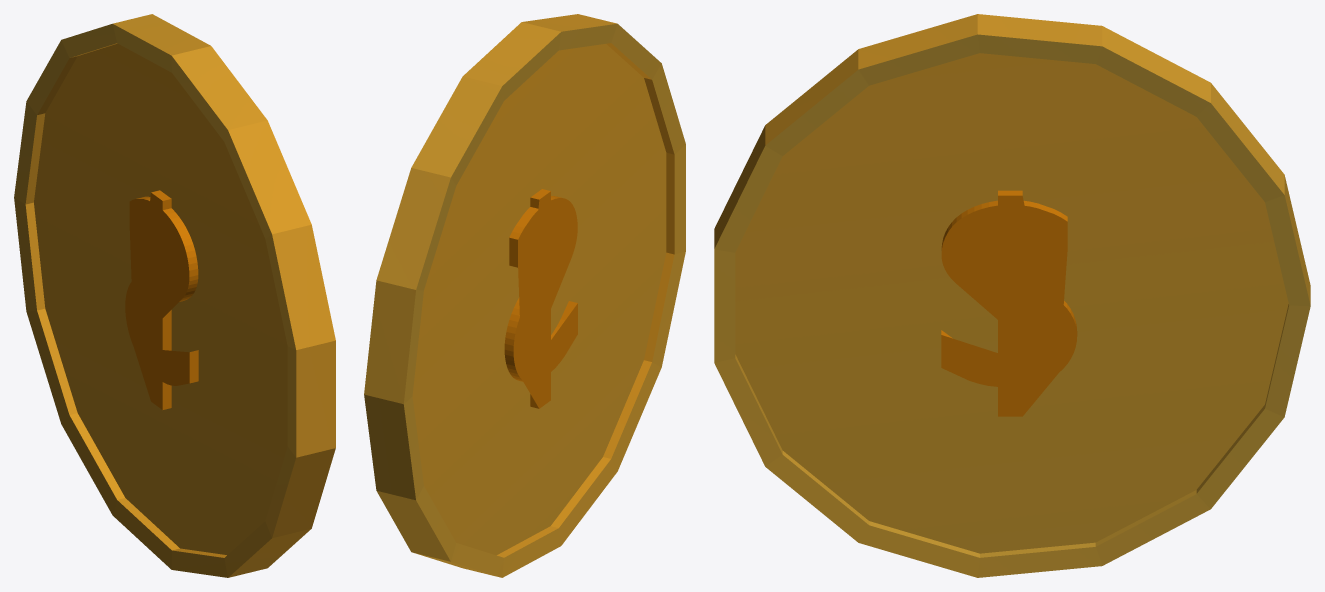
Rendered from coin.fbx.
3 renders of one model, left to right at view 1: azimuth 30°, elevation 25°; view 2: azimuth 150°, elevation 25°; view 3: azimuth 270°, elevation 25°, orthographic. The views are drawn at different scales.
Parts seen in each view (by area): view 1: Text.001; view 2: Text.001; view 3: Text.001.
Boxes of the visible parts, <box> form: Text.001: <box>14,14,335,577</box>; Text.001: <box>364,14,685,577</box>; Text.001: <box>714,14,1310,577</box>.
Bounding box in the file's own units: 16.08 × 199 × 198.
